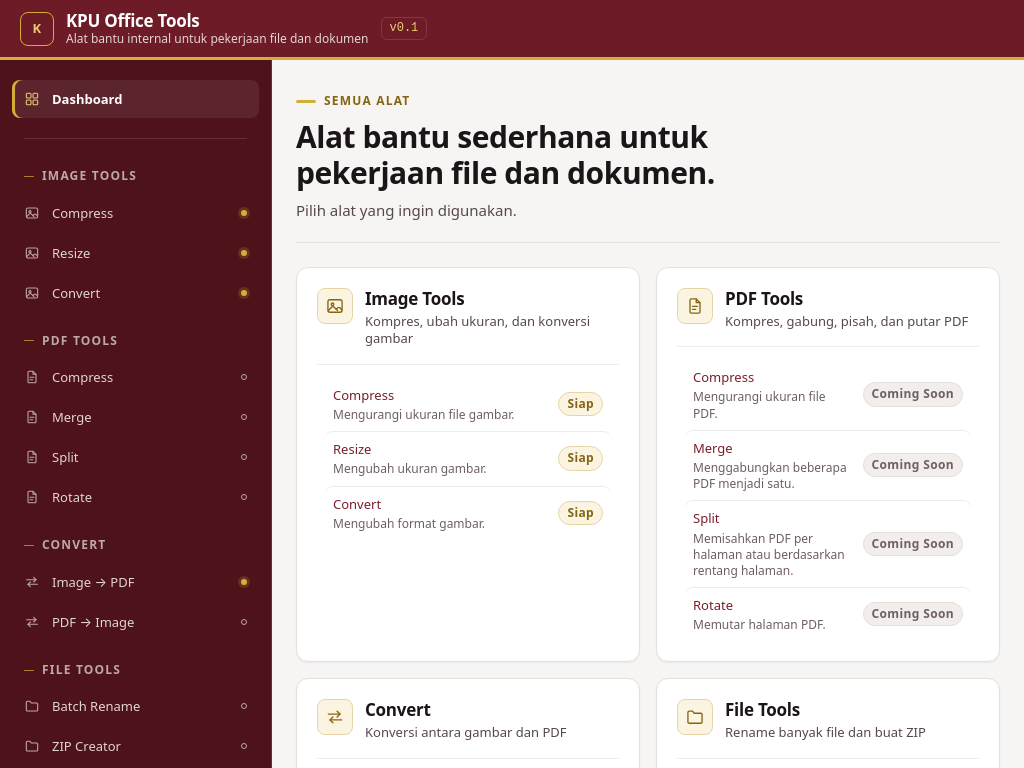
Scenario: layout responsif — desktop (Phase 1 §15) › navigasi tetap berfungsi di desktop
Click the 1st link "Rotate" at {"x": 72, "y": 497}, box top-left (12, 478), bottom-right (259, 516)
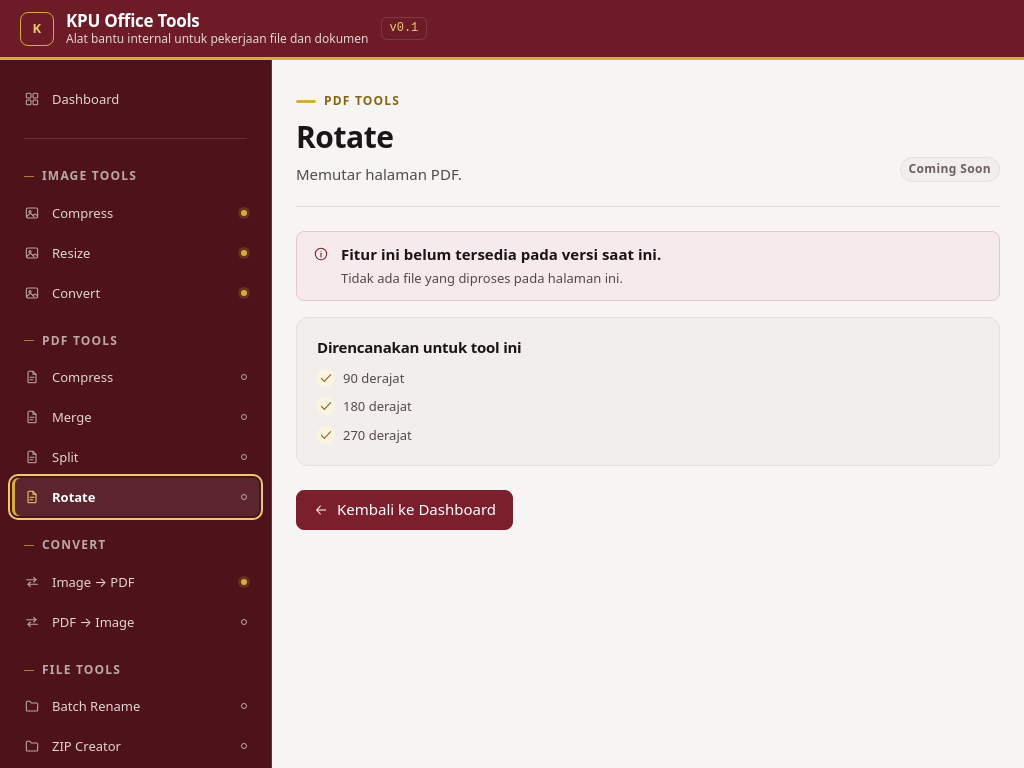
Now the heading "Rotate" is shown, box top-left (296, 116), bottom-right (394, 157)
